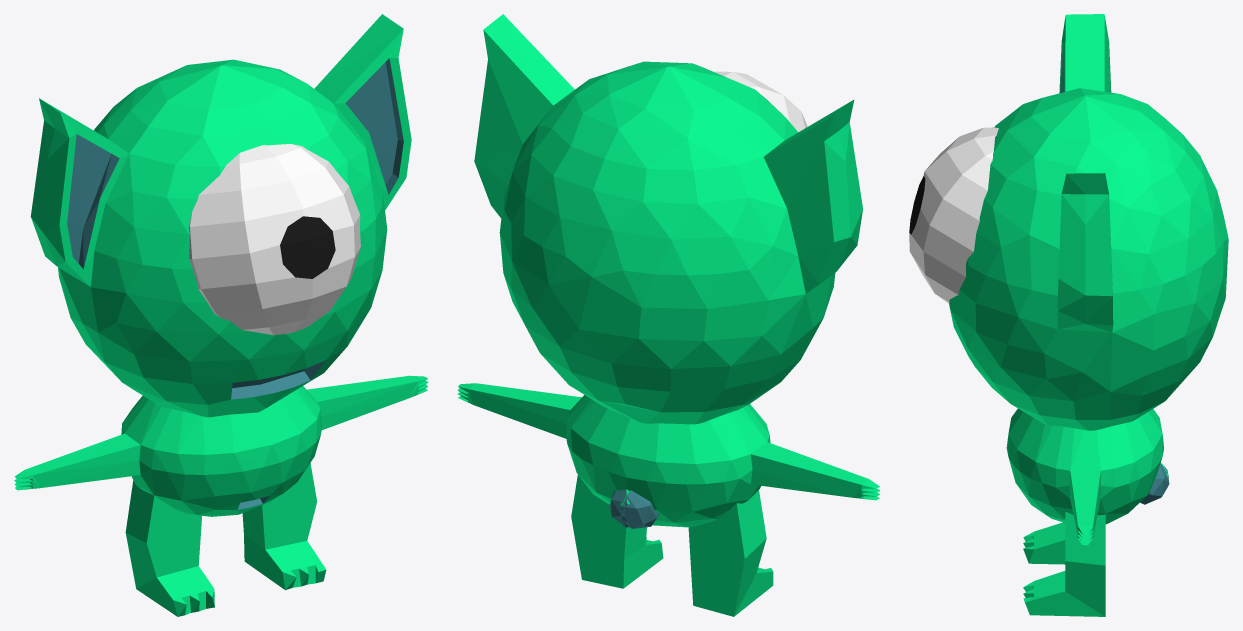
File: NPC2 (1).fbx
3 renders of one model, left to right at view 1: azimuth 30°, elevation 25°; view 2: azimuth 150°, elevation 25°; view 3: azimuth 270°, elevation 25°, orthographic. The views are drawn at different scales.
Visible parts, largest first — view 1: tete, corps et bras, Sphere, Sphere.001; view 2: tete, corps et bras, Sphere; view 3: tete, corps et bras, Sphere.
Boxes of the visible parts, x1,y1,x2,y2 form: tete: (30, 14, 411, 417); corps et bras: (14, 375, 428, 616); Sphere: (188, 144, 360, 335); Sphere.001: (280, 216, 335, 278); tete: (474, 14, 862, 424); corps et bras: (457, 383, 880, 616); Sphere: (713, 71, 807, 132); tete: (949, 14, 1228, 430); corps et bras: (1006, 408, 1169, 616); Sphere: (909, 127, 998, 303).
Size of the model in its own units: 217 by 260 by 154.
3 materials, 1 textured.
